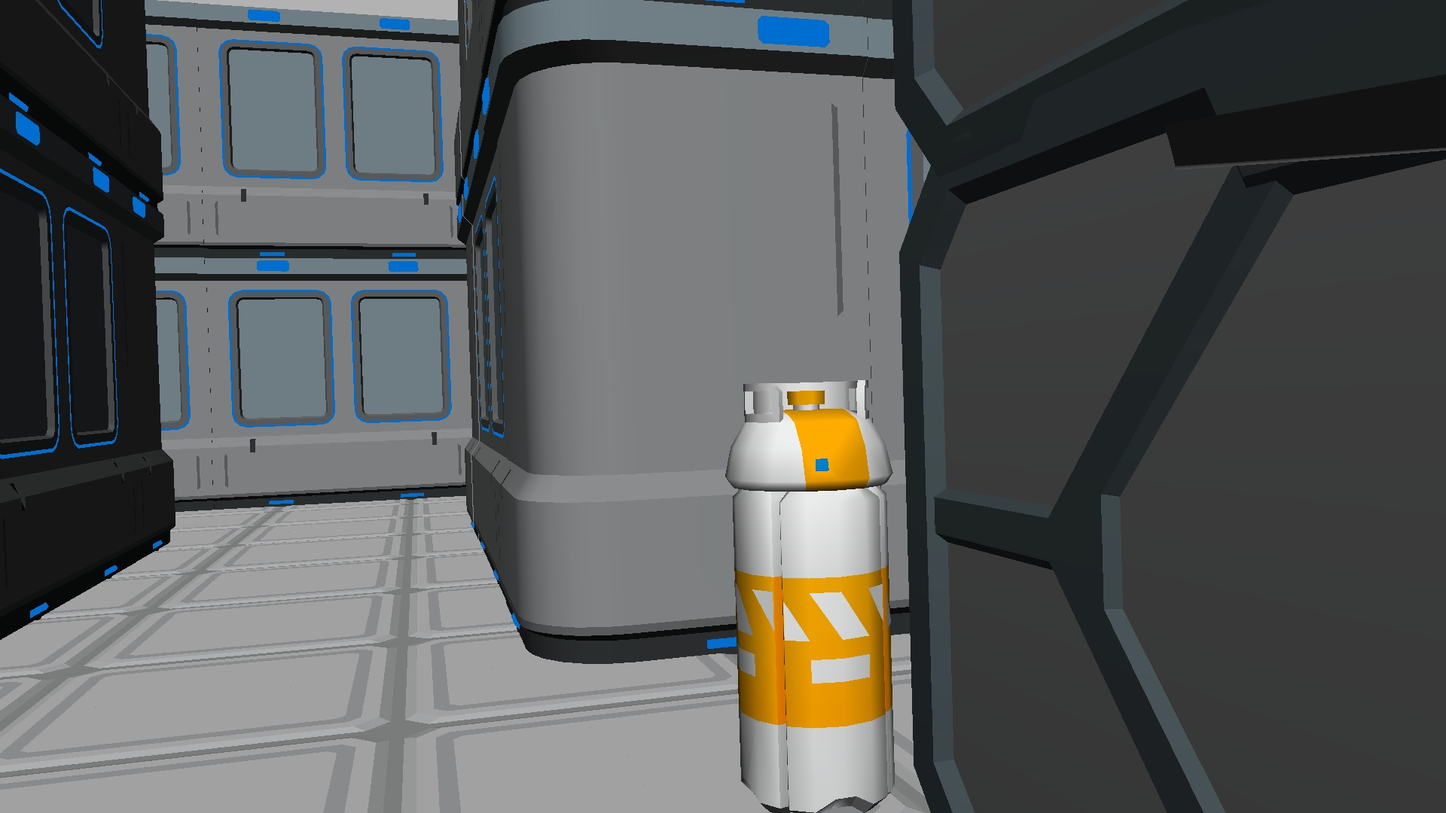yellow barrel: (725, 380, 895, 813)
